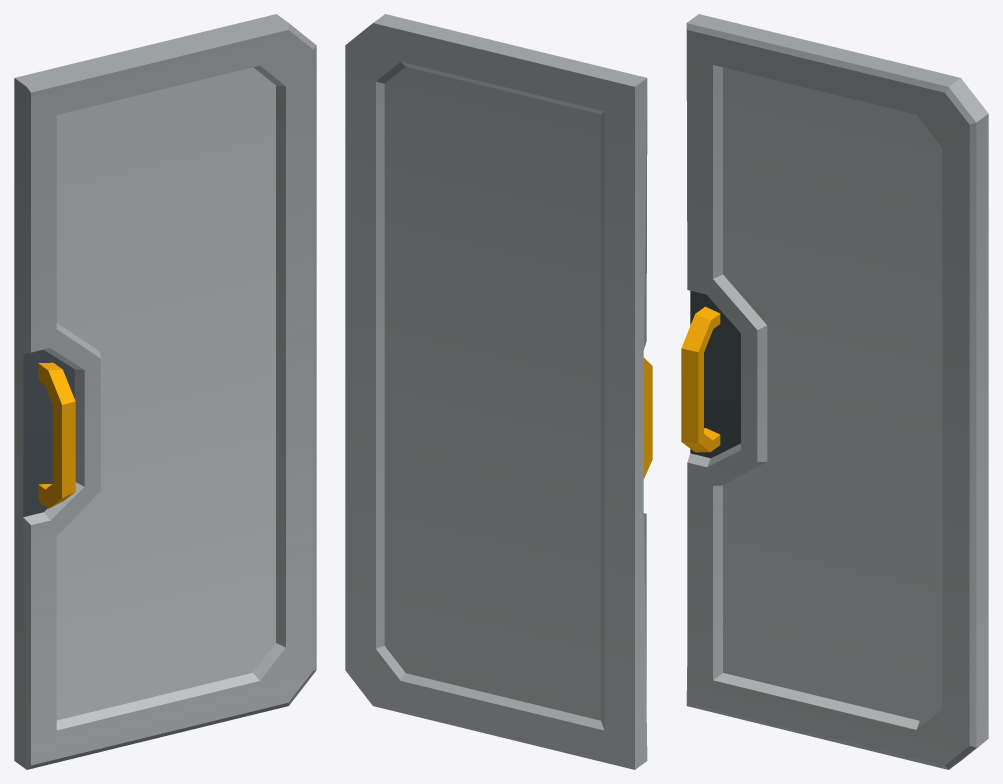
File: Container_type_B_door_002.fbx
3 views of the same model, side by side, from view 1: azimuth 30°, elevation 25°; view 2: azimuth 150°, elevation 25°; view 3: azimuth 330°, elevation 25° (orthographic).
Visible parts, largest first — view 1: Container_type_B_door_002; view 2: Container_type_B_door_002; view 3: Container_type_B_door_002.
Part boxes in pixels (x1,y1,x2,y2): Container_type_B_door_002: (14, 14, 316, 769); Container_type_B_door_002: (345, 14, 652, 769); Container_type_B_door_002: (681, 14, 988, 769).
Size of the model in its own units: 94.88 by 18.52 by 214.
